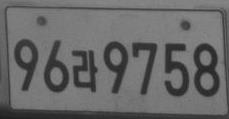5: (163, 42, 190, 97)
6: (42, 39, 70, 93)
7: (132, 41, 157, 94)
8: (193, 42, 220, 97)
9: (103, 40, 129, 93), (13, 37, 38, 91)
라: (72, 49, 98, 93)
